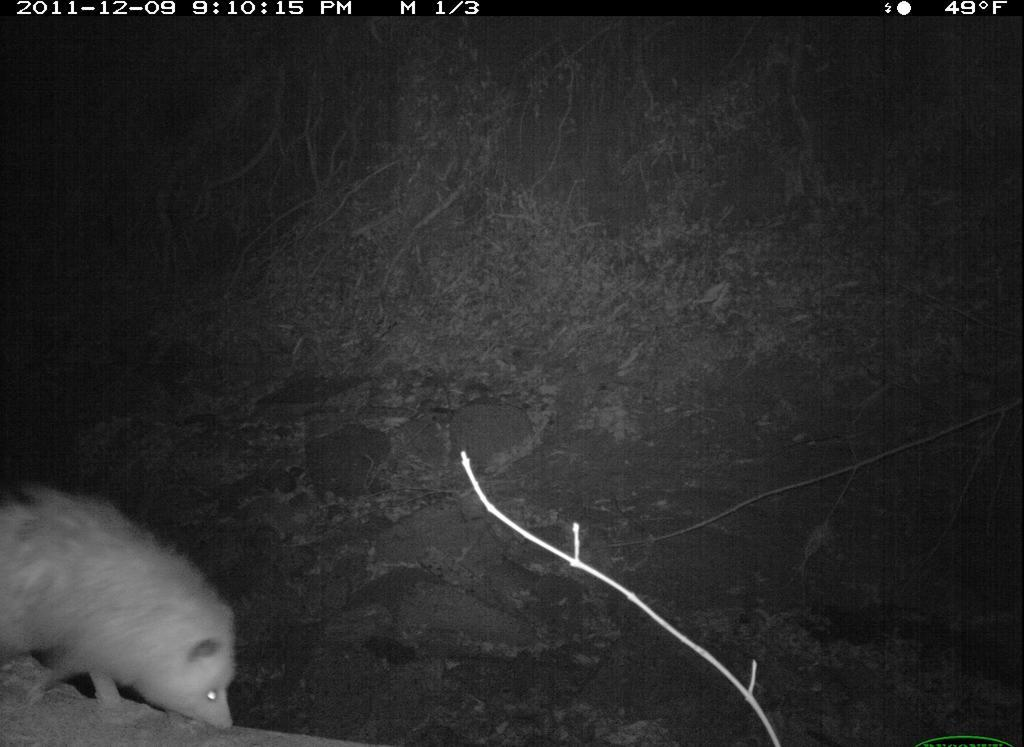opossum: (7, 478, 265, 747)
